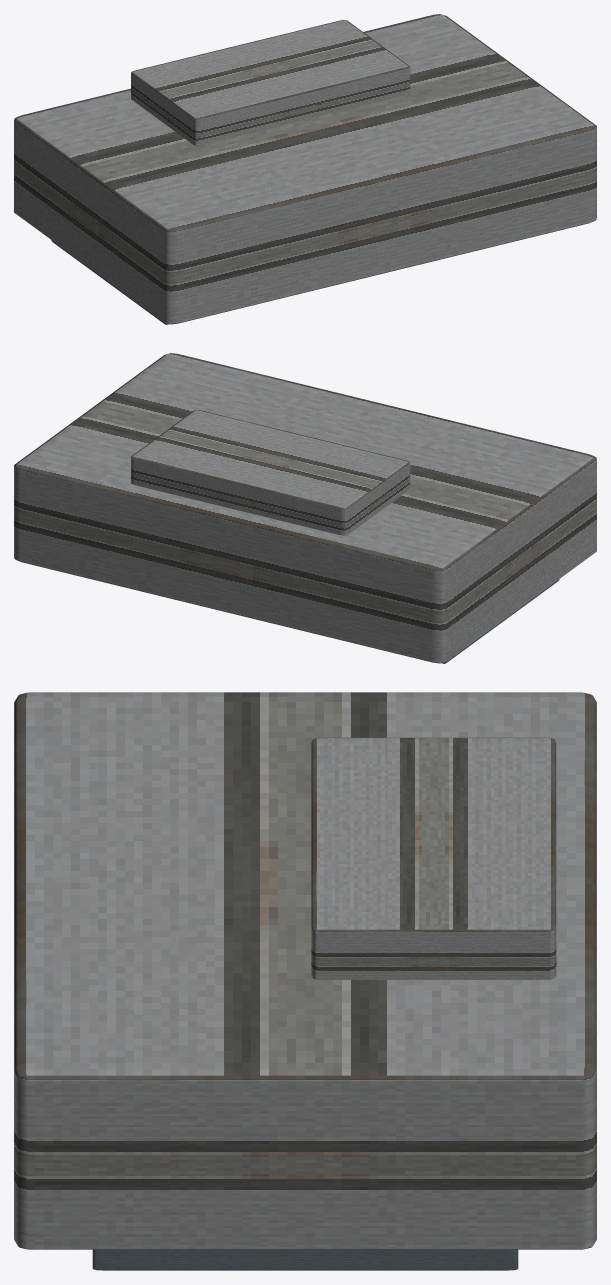
File: range-hood.glb
The picture shows the model from 3 angles, top to bottom: view 1: azimuth 30°, elevation 25°; view 2: azimuth 150°, elevation 25°; view 3: azimuth 270°, elevation 25°; orthographic projection. The views are drawn at different scales.
Visible parts, largest first — view 1: canopy, flue; view 2: canopy, flue; view 3: canopy, flue, baffle.
Boxes of the visible parts, box(x1,y1,x2,y2) form: canopy: box(14, 14, 596, 324); flue: box(131, 20, 410, 145); canopy: box(14, 353, 596, 663); flue: box(131, 410, 410, 535); canopy: box(14, 692, 596, 1249); flue: box(311, 737, 556, 979); baffle: box(92, 1249, 518, 1270).
Bounding box in the file's own units: 0.9 × 0.28 × 0.57.
Materials: 2 (2 with a texture image).
